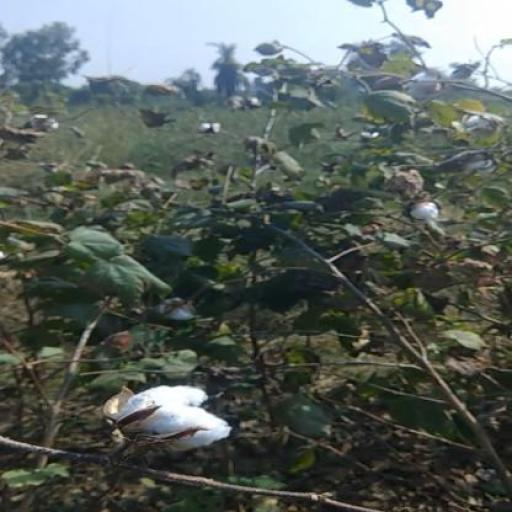cotton_ready: (91, 369, 249, 478)
